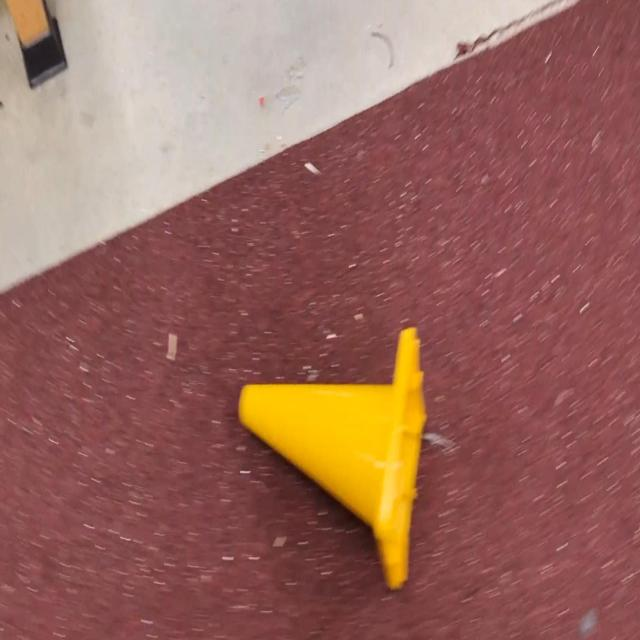frc_cone: (238, 327, 427, 590)
